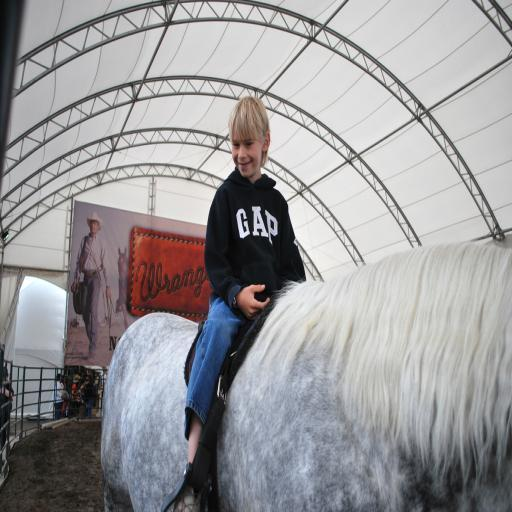horse: (100, 246, 512, 512)
